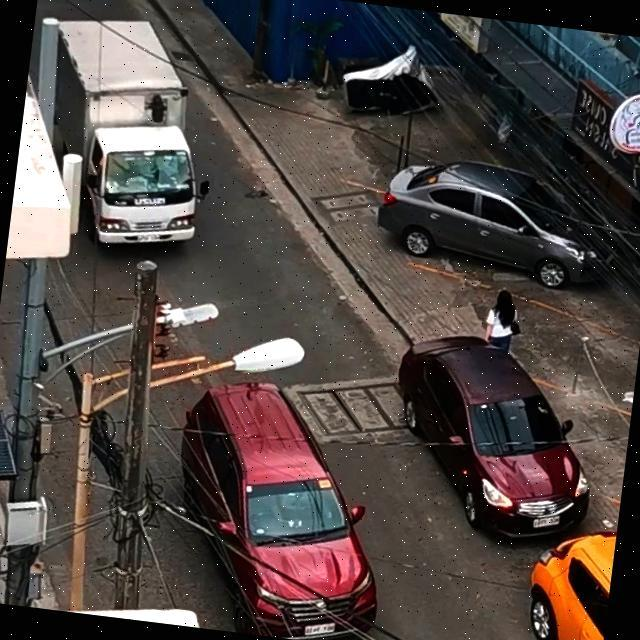Truck: (5, 0, 240, 283)
